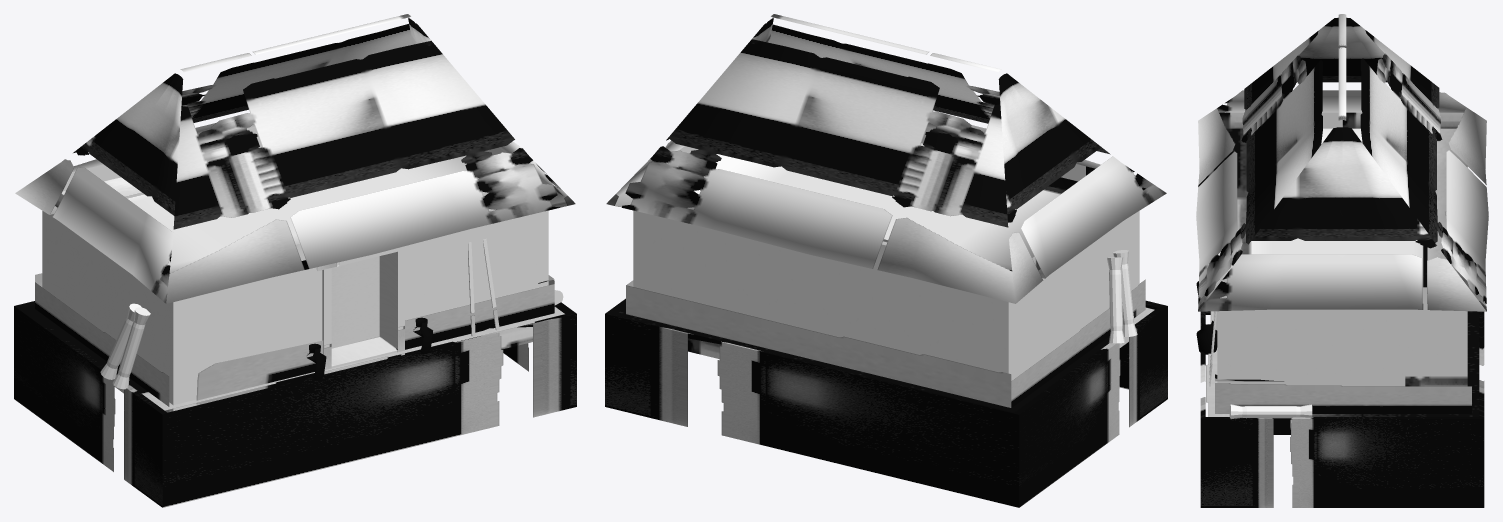
The model's file is maya_house1.dae.
3 views of the same model, side by side, from view 1: azimuth 30°, elevation 25°; view 2: azimuth 150°, elevation 25°; view 3: azimuth 270°, elevation 25° (orthographic). The views are drawn at different scales.
Visible parts, largest first — view 1: casa_1; view 2: casa_1; view 3: casa_1.
Part boxes in pixels (x1=…): casa_1: x1=14, y1=14, x2=576, y2=507; casa_1: x1=605, y1=14, x2=1167, y2=507; casa_1: x1=1196, y1=14, x2=1488, y2=507.
Bounding box in the file's own units: 12.71 × 7.93 × 10.29.
